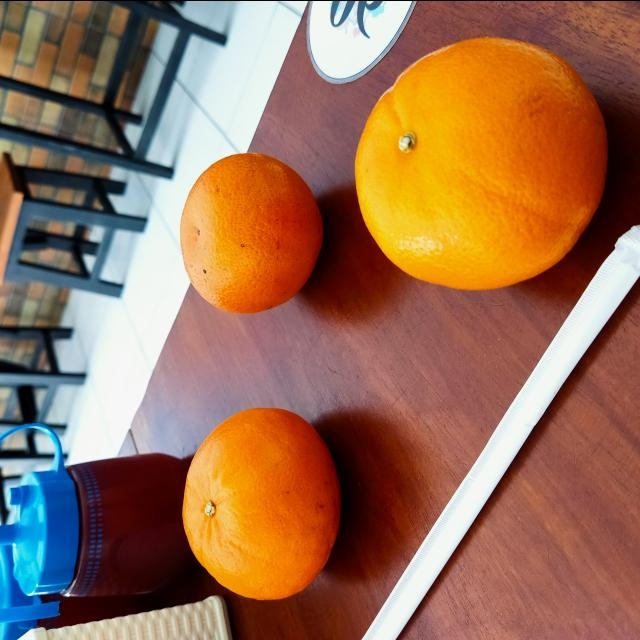agrume: (355, 36, 609, 288), (183, 406, 343, 599)
